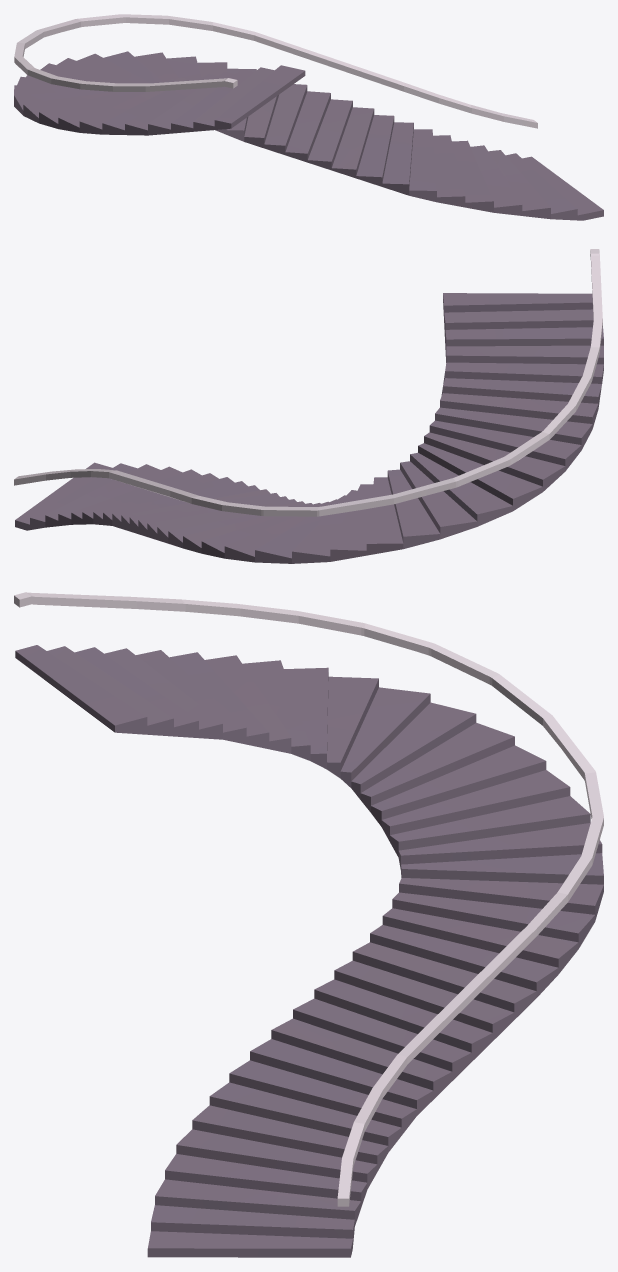
The model's file is lvl1_T_switch1_stairs.glb.
3 views of the same model, one above another, from view 1: azimuth 30°, elevation 25°; view 2: azimuth 150°, elevation 25°; view 3: azimuth 270°, elevation 25° (orthographic). The views are drawn at different scales.
Visible parts, largest first — view 1: lvl1_T_switch1_stairs; view 2: lvl1_T_switch1_stairs; view 3: lvl1_T_switch1_stairs.
Part boxes in pixels (x1=…): lvl1_T_switch1_stairs: x1=14, y1=14, x2=603, y2=220; lvl1_T_switch1_stairs: x1=14, y1=249, x2=603, y2=563; lvl1_T_switch1_stairs: x1=14, y1=592, x2=603, y2=1257.
Size of the model in its own units: 13.93 by 7.17 by 10.17.
1 material, 1 textured.
